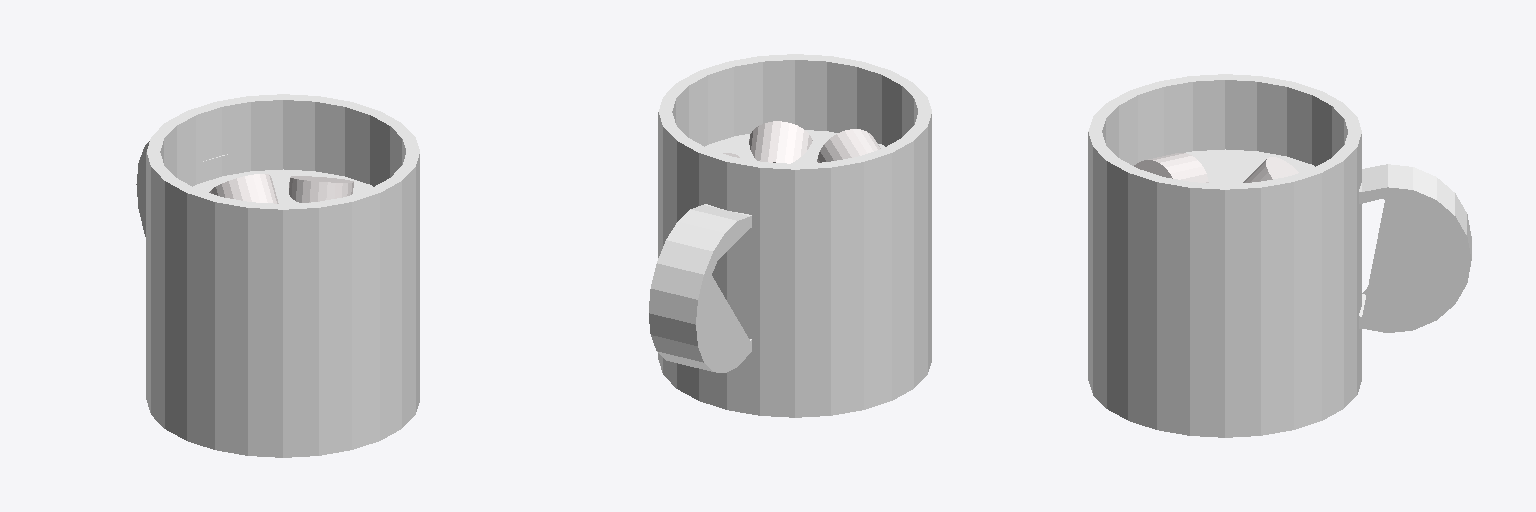
File: cocoa_hot_cocoa.obj
3 views of the same model, side by side, from view 1: azimuth 30°, elevation 25°; view 2: azimuth 150°, elevation 25°; view 3: azimuth 270°, elevation 25° (orthographic).
Visible parts, largest first — view 1: Mesh2 Group1 ske30D1 Component_2_1 Untitled1 Model, Mesh1 Component_1_1 Component_2_1 Untitled1 Model, Mesh6 Component_2_1 Untitled1 Model, Mesh3 Component_1_2 Component_2_1 Untitled1 Model; view 2: Mesh2 Group1 ske30D1 Component_2_1 Untitled1 Model, Mesh4 Component_1_3 Component_2_1 Untitled1 Model, Mesh5 Component_1_4 Component_2_1 Untitled1 Model, Mesh6 Component_2_1 Untitled1 Model; view 3: Mesh2 Group1 ske30D1 Component_2_1 Untitled1 Model, Mesh6 Component_2_1 Untitled1 Model, Mesh5 Component_1_4 Component_2_1 Untitled1 Model, Mesh3 Component_1_2 Component_2_1 Untitled1 Model.
Part boxes in pixels (x1,y1,x2,y2): Mesh2 Group1 ske30D1 Component_2_1 Untitled1 Model: (136, 94, 419, 457); Mesh1 Component_1_1 Component_2_1 Untitled1 Model: (289, 176, 353, 202); Mesh6 Component_2_1 Untitled1 Model: (193, 169, 372, 203); Mesh3 Component_1_2 Component_2_1 Untitled1 Model: (209, 174, 278, 203); Mesh2 Group1 ske30D1 Component_2_1 Untitled1 Model: (649, 54, 931, 417); Mesh4 Component_1_3 Component_2_1 Untitled1 Model: (749, 121, 812, 163); Mesh5 Component_1_4 Component_2_1 Untitled1 Model: (817, 129, 880, 162); Mesh6 Component_2_1 Untitled1 Model: (705, 130, 884, 163); Mesh2 Group1 ske30D1 Component_2_1 Untitled1 Model: (1088, 74, 1471, 437); Mesh6 Component_2_1 Untitled1 Model: (1186, 149, 1314, 183); Mesh5 Component_1_4 Component_2_1 Untitled1 Model: (1134, 153, 1208, 182); Mesh3 Component_1_2 Component_2_1 Untitled1 Model: (1243, 157, 1298, 182).
Size of the model in its own units: 240 by 240 by 336.